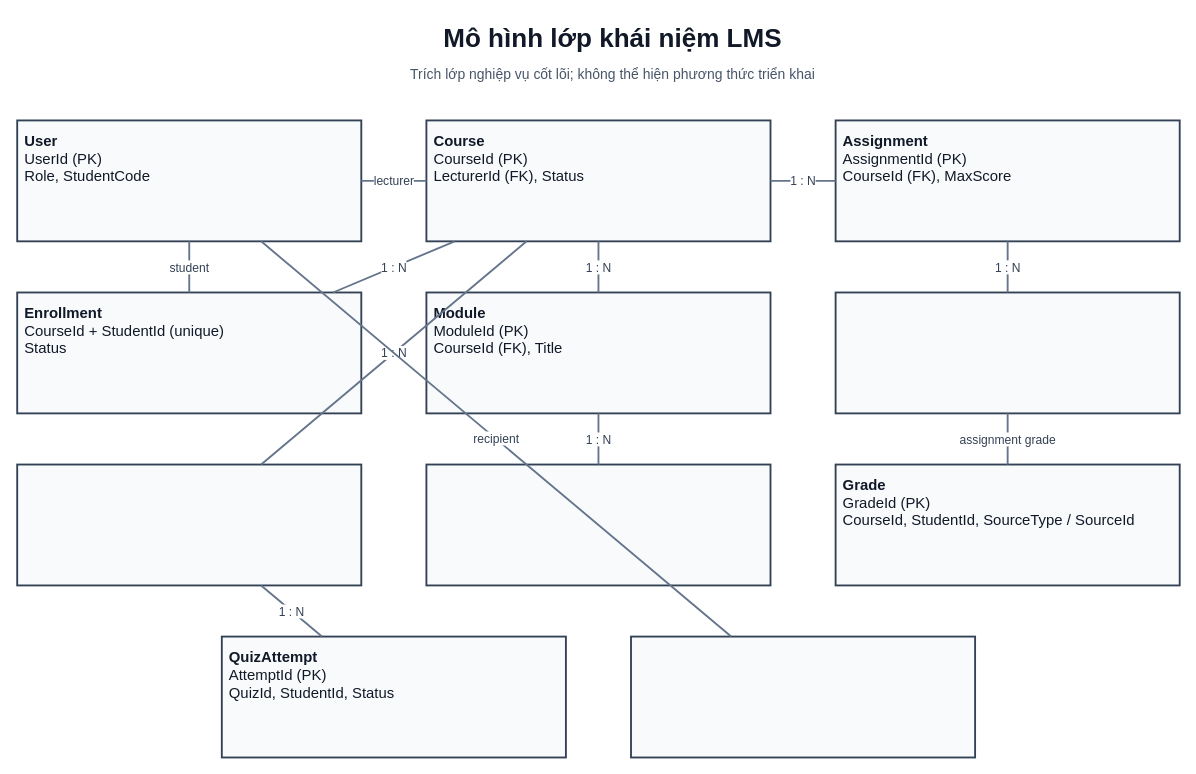
Image size: 1196x774. Some labels were removed from this diagram. The centre of each missing label's shape, as x and y in pixels:
"Lesson LessonId (PK) ModuleId (FK), Title" belongs at pixel 598 524.
"Notification NotificationId (PK) UserId (FK), Type" belongs at pixel 803 696.
"Quiz QuizId (PK) CourseId (FK), Status" belongs at pixel 189 524.
"Submission SubmissionId (PK) AssignmentId, StudentId, Status" belongs at pixel 1007 352.
